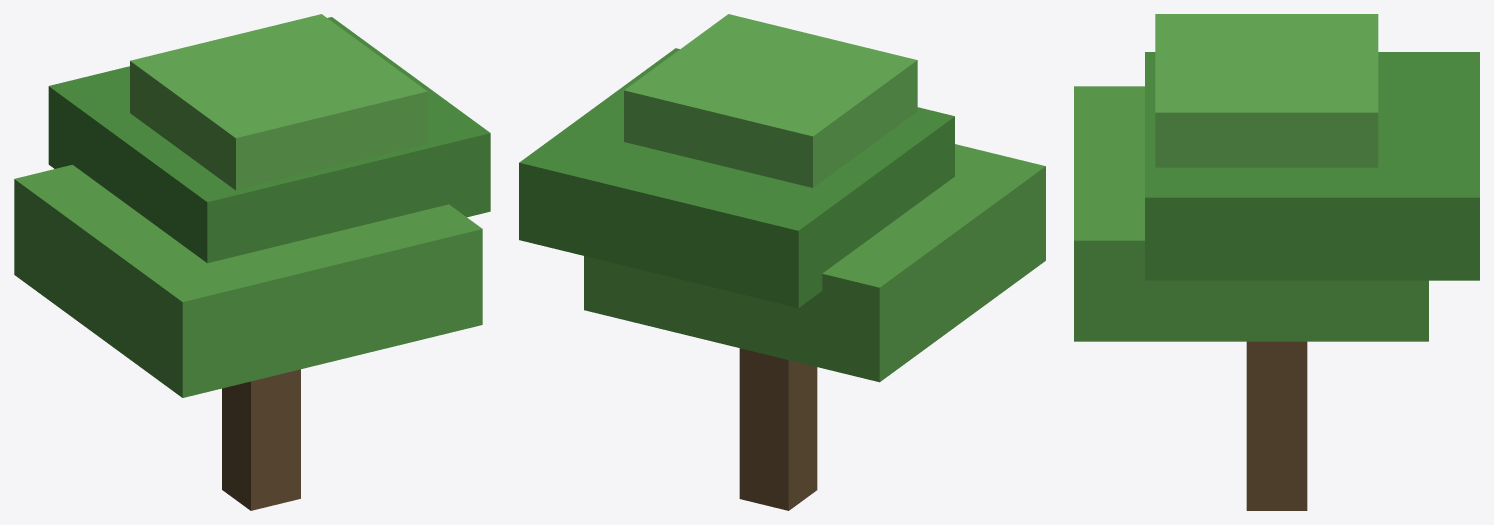
The model's file is tree_clump.glb.
3 renders of one model, left to right at view 1: azimuth 30°, elevation 25°; view 2: azimuth 150°, elevation 25°; view 3: azimuth 270°, elevation 25°, orthographic. The views are drawn at different scales.
Parts seen in each view (by area): view 1: body; view 2: body; view 3: body.
Part boxes in pixels (bbox=[...]): body: bbox=[14, 14, 490, 510]; body: bbox=[519, 14, 1045, 510]; body: bbox=[1074, 14, 1479, 510].
Bounding box in the file's own units: 4.1 × 4.8 × 4.
